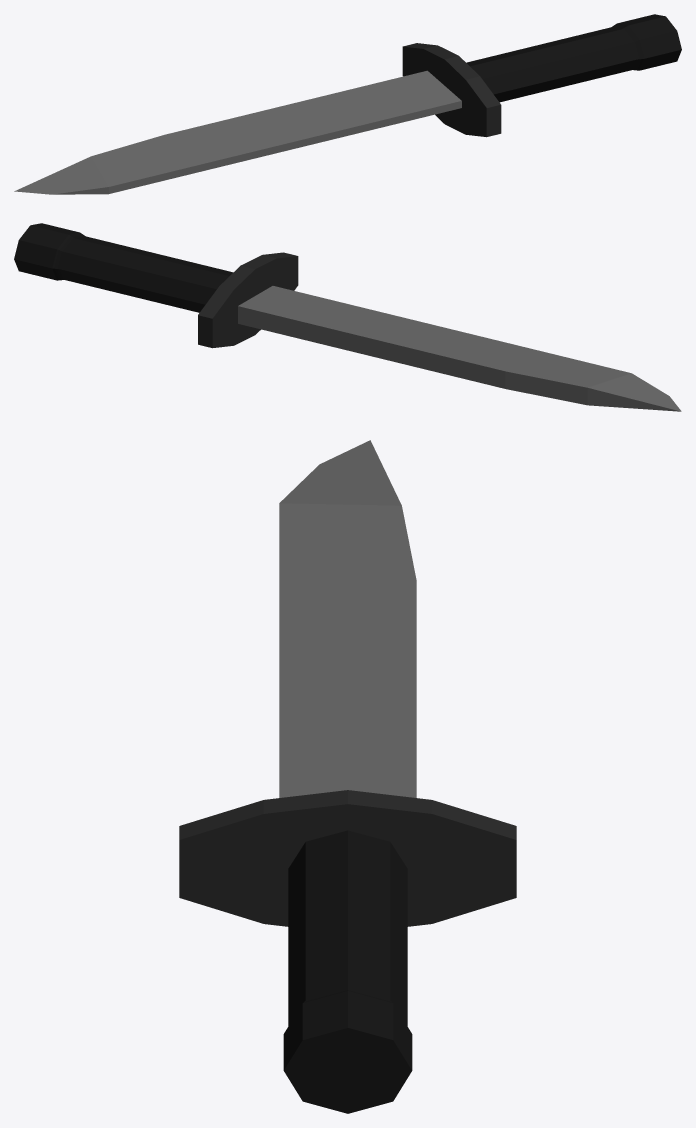
Rendered from Blade.fbx.
3 renders of one model, top to bottom at view 1: azimuth 30°, elevation 25°; view 2: azimuth 150°, elevation 25°; view 3: azimuth 270°, elevation 25°, orthographic. The views are drawn at different scales.
Parts seen in each view (by area): view 1: Blade; view 2: Blade; view 3: Blade.
Boxes of the visible parts, left/top/right/bottom form: Blade: left=14, top=14, right=681, bottom=194; Blade: left=14, top=223, right=681, bottom=411; Blade: left=179, top=440, right=516, bottom=1113.
Bounding box in the file's own units: 35.04 × 3.36 × 7.91.
